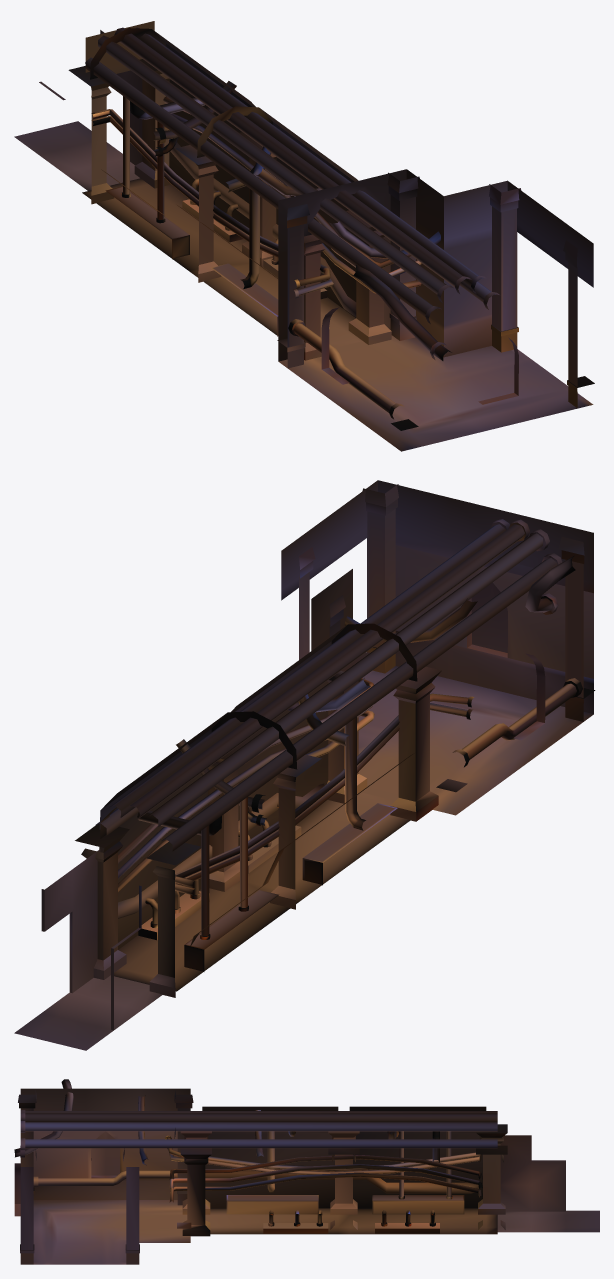
Rendered from 02Hall.gltf.
3 renders of one model, top to bottom at view 1: azimuth 30°, elevation 25°; view 2: azimuth 150°, elevation 25°; view 3: azimuth 270°, elevation 25°, orthographic. The views are drawn at different scales.
Parts seen in each view (by area): view 1: stg031_o34_Mesh_0002, stg031_o34_Mesh_0034, stg031_o32_Mesh_0002, stg031_o32_Mesh_0081, stg031_o34_Mesh_0027, stg031_o32_Mesh_0078, stg031_o34_Mesh_0008, stg031_o34_Mesh_0015, stg031_o34_Mesh_0021, stg031_o34_Mesh_0000, stg031_o34_Mesh_0013, stg031_o34_Mesh_0033 (+9 smaller); view 2: stg031_o34_Mesh_0002, stg031_o34_Mesh_0027, stg031_o34_Mesh_0034, stg031_o32_Mesh_0002, stg031_o32_Mesh_0081, stg031_o34_Mesh_0000, stg031_o34_Mesh_0021, stg031_o32_Mesh_0078, stg031_o34_Mesh_0013, stg031_o34_Mesh_0008, stg031_o34_Mesh_0015, stg031_o34_Mesh_0025 (+8 smaller); view 3: stg031_o34_Mesh_0002, stg031_o34_Mesh_0021, stg031_o34_Mesh_0034, stg031_o32_Mesh_0002, stg031_o32_Mesh_0081, stg031_o34_Mesh_0000, stg031_o34_Mesh_0013, stg031_o34_Mesh_0008, stg031_o32_Mesh_0078, stg031_o34_Mesh_0015, stg031_o34_Mesh_0017, stg031_o32_Mesh_0049 (+8 smaller).
Boxes of the visible parts, x1,y1,x2,y2 form: stg031_o34_Mesh_0002: [85, 27, 568, 434]; stg031_o34_Mesh_0034: [91, 81, 421, 412]; stg031_o32_Mesh_0002: [39, 21, 559, 420]; stg031_o32_Mesh_0081: [14, 28, 380, 335]; stg031_o34_Mesh_0027: [91, 44, 438, 451]; stg031_o32_Mesh_0078: [29, 124, 586, 448]; stg031_o34_Mesh_0008: [406, 169, 593, 277]; stg031_o34_Mesh_0015: [290, 195, 577, 386]; stg031_o34_Mesh_0021: [105, 64, 356, 336]; stg031_o34_Mesh_0000: [68, 59, 391, 360]; stg031_o34_Mesh_0013: [416, 238, 491, 325]; stg031_o34_Mesh_0033: [278, 169, 406, 361]; stg031_o34_Mesh_0002: [95, 524, 575, 851]; stg031_o34_Mesh_0027: [97, 480, 593, 977]; stg031_o34_Mesh_0034: [118, 678, 576, 946]; stg031_o32_Mesh_0002: [41, 693, 511, 987]; stg031_o32_Mesh_0081: [14, 623, 417, 1050]; stg031_o34_Mesh_0000: [75, 652, 441, 997]; stg031_o34_Mesh_0021: [99, 681, 397, 971]; stg031_o32_Mesh_0078: [30, 666, 570, 1046]; stg031_o34_Mesh_0013: [395, 545, 593, 678]; stg031_o34_Mesh_0008: [281, 480, 377, 648]; stg031_o34_Mesh_0015: [299, 509, 580, 697]; stg031_o34_Mesh_0025: [395, 641, 593, 713]; stg031_o34_Mesh_0002: [14, 1079, 497, 1262]; stg031_o34_Mesh_0021: [205, 1131, 482, 1233]; stg031_o34_Mesh_0034: [38, 1110, 482, 1223]; stg031_o32_Mesh_0002: [57, 1135, 565, 1262]; stg031_o32_Mesh_0081: [202, 1106, 599, 1234]; stg031_o34_Mesh_0000: [180, 1124, 507, 1236]; stg031_o34_Mesh_0013: [33, 1131, 177, 1178]; stg031_o34_Mesh_0008: [20, 1088, 190, 1110]; stg031_o32_Mesh_0078: [33, 1203, 599, 1262]; stg031_o34_Mesh_0015: [20, 1108, 190, 1249]; stg031_o34_Mesh_0017: [228, 1195, 462, 1213]; stg031_o32_Mesh_0049: [33, 1185, 565, 1264].
Bounding box in the file's own units: 16.68 × 12.51 × 57.25.
